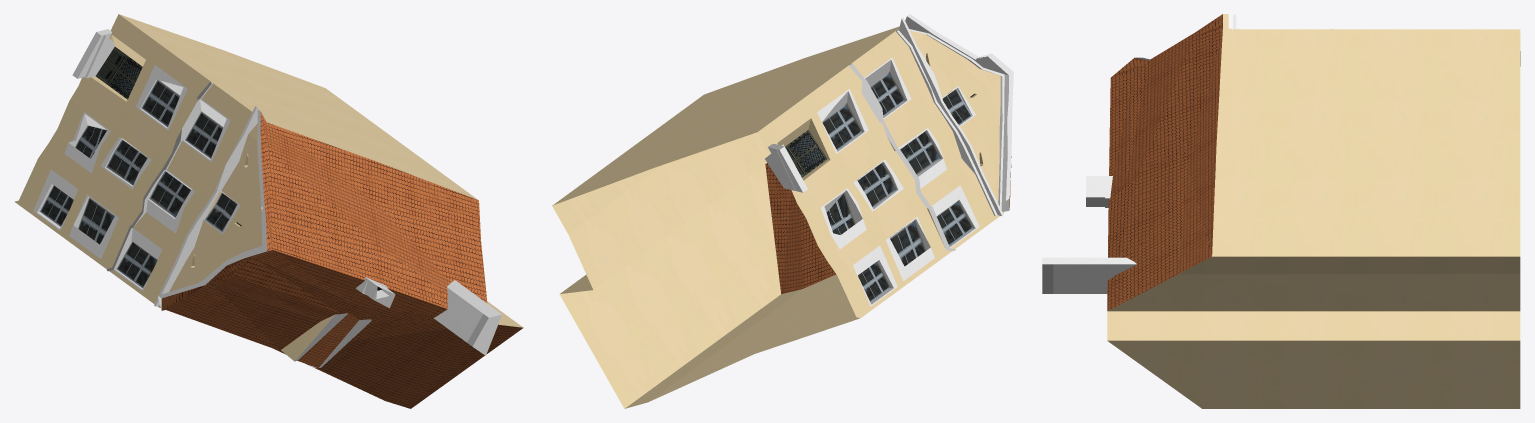
The model's file is Lai_42-origo.obj.
3 renders of one model, left to right at view 1: azimuth 30°, elevation 25°; view 2: azimuth 150°, elevation 25°; view 3: azimuth 270°, elevation 25°, orthographic.
Visible parts, largest first — view 1: Lai_42; view 2: Lai_42; view 3: Lai_42.
Boxes of the visible parts, x1,y1,x2,y2 form: Lai_42: (14, 14, 523, 408); Lai_42: (552, 14, 1013, 408); Lai_42: (1042, 14, 1520, 408).
Size of the model in its own units: 13.12 by 13 by 17.26.
